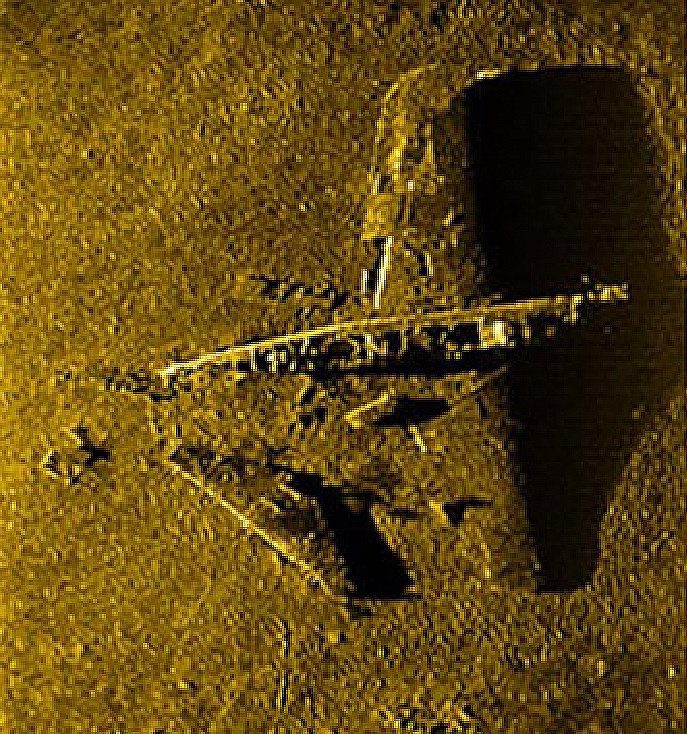aircraft: (97, 59, 645, 602)
